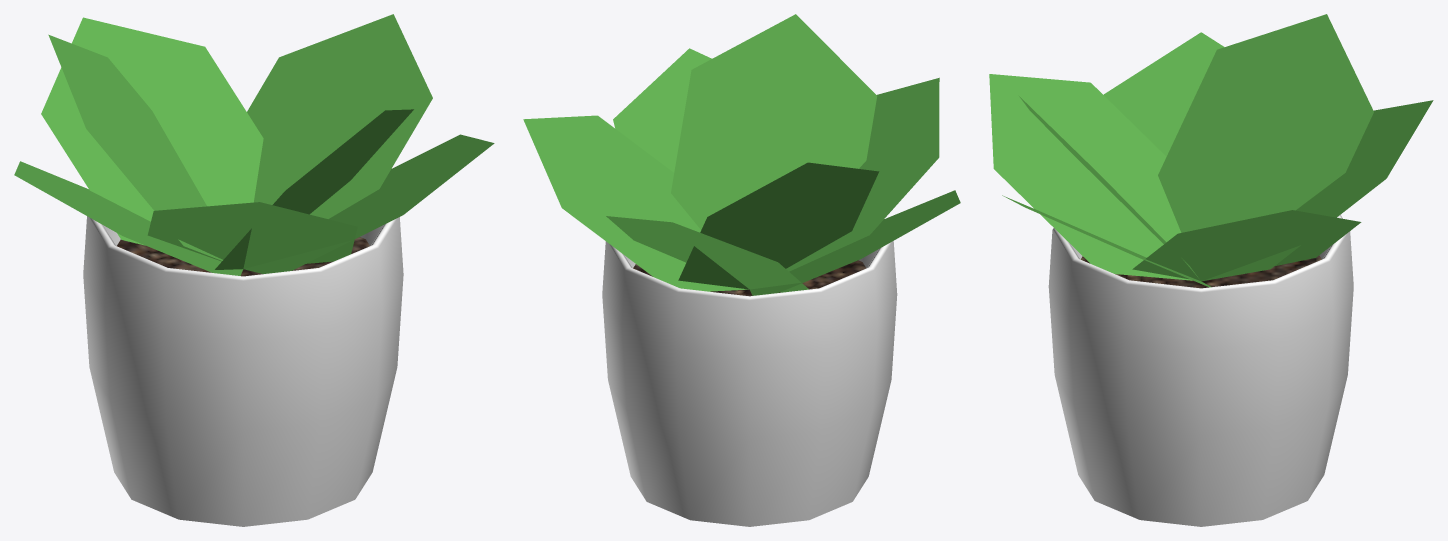
The model's file is little-plant.glb.
The picture shows the model from 3 angles, left to right: view 1: azimuth 30°, elevation 25°; view 2: azimuth 150°, elevation 25°; view 3: azimuth 270°, elevation 25°; orthographic projection. The views are drawn at different scales.
Visible parts, largest first — view 1: Pot_Small4_lambert3_0, Leaf_Short4_lambert3_0, Leaf_Short5_lambert3_0, Leaf_Short7_lambert3_0, Leaf_Short2_lambert3_0, Leaf_Short3_lambert3_0, Leaf_Short8_lambert3_0, Leaf_Short1_lambert3_0, Pot_Small_Dirt_lambert3_0; view 2: Pot_Small4_lambert3_0, Leaf_Short8_lambert3_0, Leaf_Short4_lambert3_0, Leaf_Short7_lambert3_0, Leaf_Short2_lambert3_0, Leaf_Short3_lambert3_0, Leaf_Short5_lambert3_0, Leaf_Short1_lambert3_0, Pot_Small_Dirt_lambert3_0; view 3: Pot_Small4_lambert3_0, Leaf_Short7_lambert3_0, Leaf_Short2_lambert3_0, Leaf_Short4_lambert3_0, Leaf_Short1_lambert3_0, Leaf_Short5_lambert3_0, Pot_Small_Dirt_lambert3_0, Leaf_Short8_lambert3_0, Leaf_Short3_lambert3_0.
Boxes of the visible parts, left/top/right/bottom form: Pot_Small4_lambert3_0: left=83, top=216, right=403, bottom=526; Leaf_Short4_lambert3_0: left=247, top=14, right=432, bottom=218; Leaf_Short5_lambert3_0: left=41, top=17, right=263, bottom=245; Leaf_Short7_lambert3_0: left=48, top=34, right=222, bottom=260; Leaf_Short2_lambert3_0: left=147, top=202, right=357, bottom=268; Leaf_Short3_lambert3_0: left=243, top=134, right=494, bottom=273; Leaf_Short8_lambert3_0: left=215, top=109, right=413, bottom=269; Leaf_Short1_lambert3_0: left=14, top=161, right=243, bottom=275; Pot_Small_Dirt_lambert3_0: left=117, top=237, right=369, bottom=276; Pot_Small4_lambert3_0: left=602, top=241, right=897, bottom=526; Leaf_Short8_lambert3_0: left=671, top=14, right=877, bottom=229; Leaf_Short4_lambert3_0: left=523, top=115, right=748, bottom=291; Leaf_Short7_lambert3_0: left=678, top=162, right=879, bottom=289; Leaf_Short2_lambert3_0: left=786, top=77, right=939, bottom=271; Leaf_Short3_lambert3_0: left=613, top=48, right=711, bottom=172; Leaf_Short5_lambert3_0: left=606, top=216, right=808, bottom=292; Leaf_Short1_lambert3_0: left=750, top=190, right=960, bottom=295; Pot_Small_Dirt_lambert3_0: left=633, top=260, right=866, bottom=296; Pot_Small4_lambert3_0: left=1048, top=215, right=1353, bottom=526; Leaf_Short7_lambert3_0: left=1158, top=14, right=1373, bottom=232; Leaf_Short2_lambert3_0: left=989, top=74, right=1192, bottom=280; Leaf_Short4_lambert3_0: left=1132, top=210, right=1361, bottom=281; Leaf_Short1_lambert3_0: left=1103, top=32, right=1224, bottom=156; Leaf_Short5_lambert3_0: left=1202, top=100, right=1433, bottom=281; Pot_Small_Dirt_lambert3_0: left=1080, top=255, right=1321, bottom=288; Leaf_Short8_lambert3_0: left=1019, top=96, right=1198, bottom=278; Leaf_Short3_lambert3_0: left=1002, top=195, right=1211, bottom=287.
Size of the model in its own units: 0.2085 by 0.1963 by 0.1972.
1 material, 1 textured.
